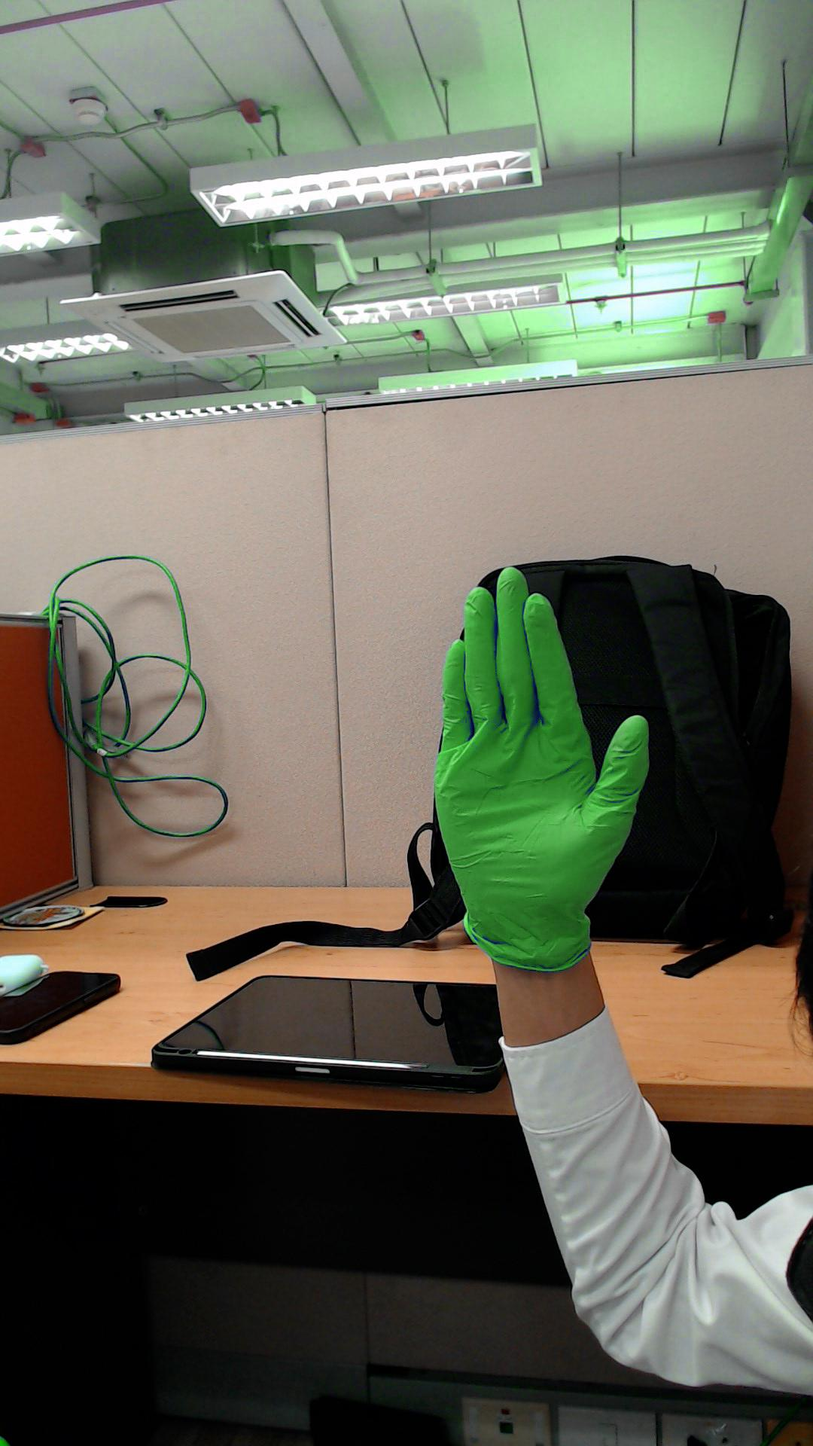gloves: (427, 554, 659, 892)
